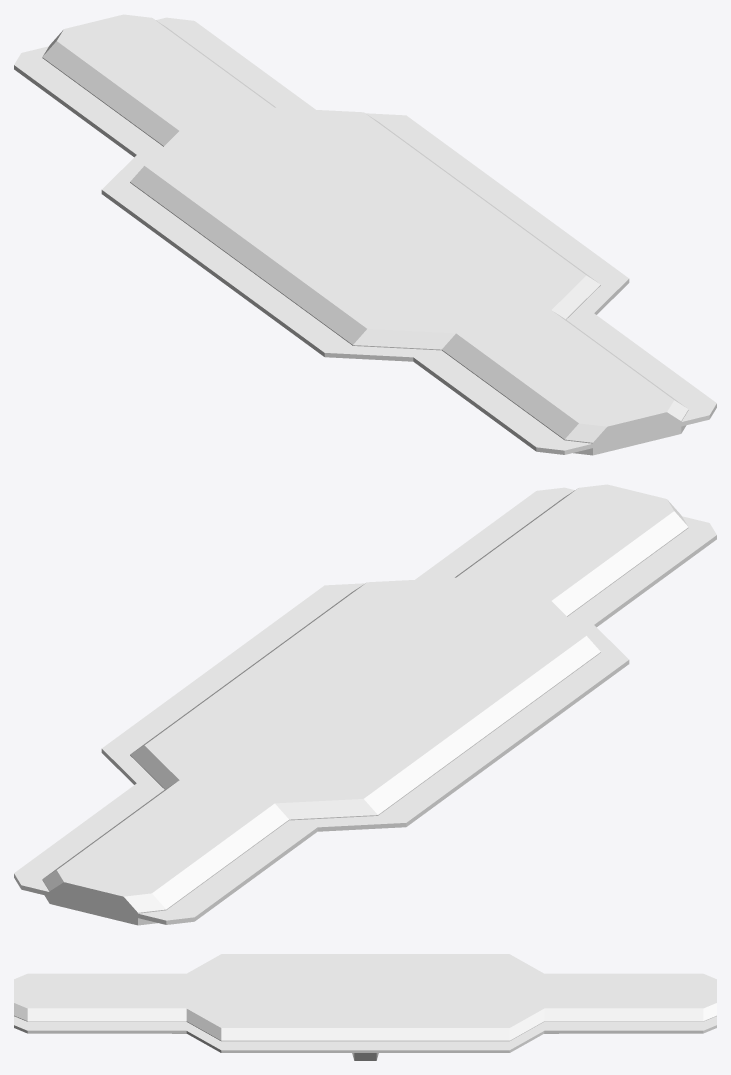
File: landeplat.obj
The picture shows the model from 3 angles, top to bottom: view 1: azimuth 30°, elevation 25°; view 2: azimuth 150°, elevation 25°; view 3: azimuth 270°, elevation 25°; orthographic projection. The views are drawn at different scales.
Visible parts, largest first — view 1: cube2_sep59_cube2_copy27_auv; view 2: cube2_sep59_cube2_copy27_auv; view 3: cube2_sep59_cube2_copy27_auv.
Boxes of the visible parts, box(x1,y1,x2,y2) form: cube2_sep59_cube2_copy27_auv: box(14, 14, 716, 455); cube2_sep59_cube2_copy27_auv: box(14, 484, 716, 925); cube2_sep59_cube2_copy27_auv: box(14, 954, 716, 1060).
Size of what is drawn, in the model's own units: 32.5 by 4.99 by 100.
1 material, 1 textured.
